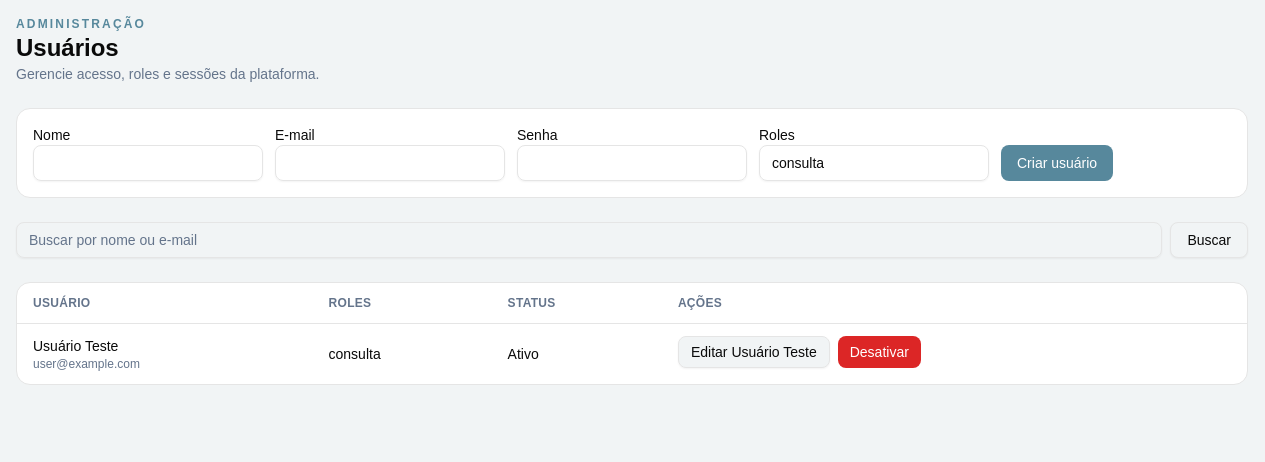
UsersAdmin › creates users with roles and deactivates an existing user
Expected: the text "Usuário Teste" is shown, [33, 338, 118, 354]
Type "Novo Usuário" into the field labelled "Nome" at (148, 163), box [33, 145, 263, 181]
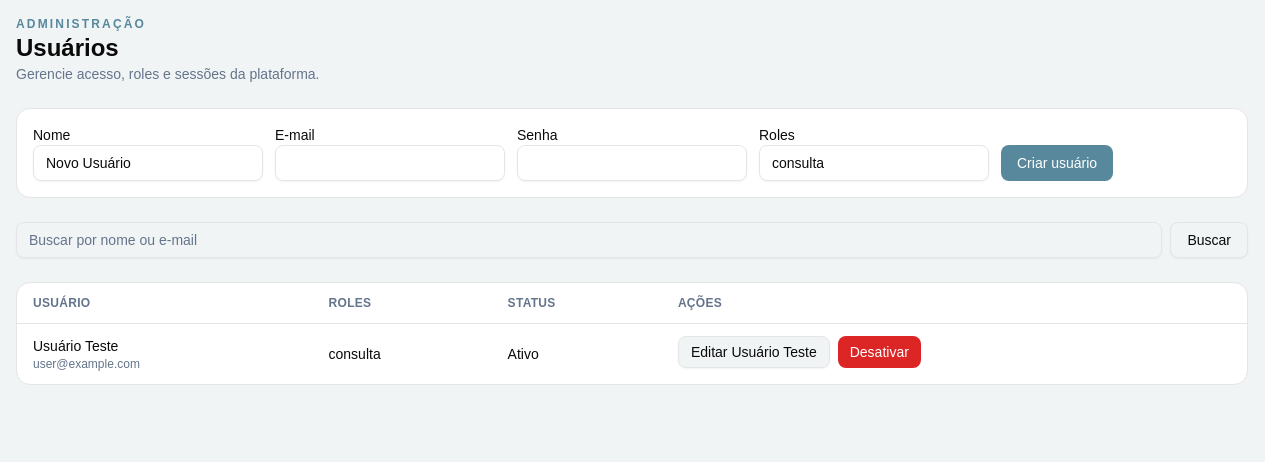
Type "novo@example.com" into the field labelled "E-mail" at (390, 163), box [275, 145, 505, 181]
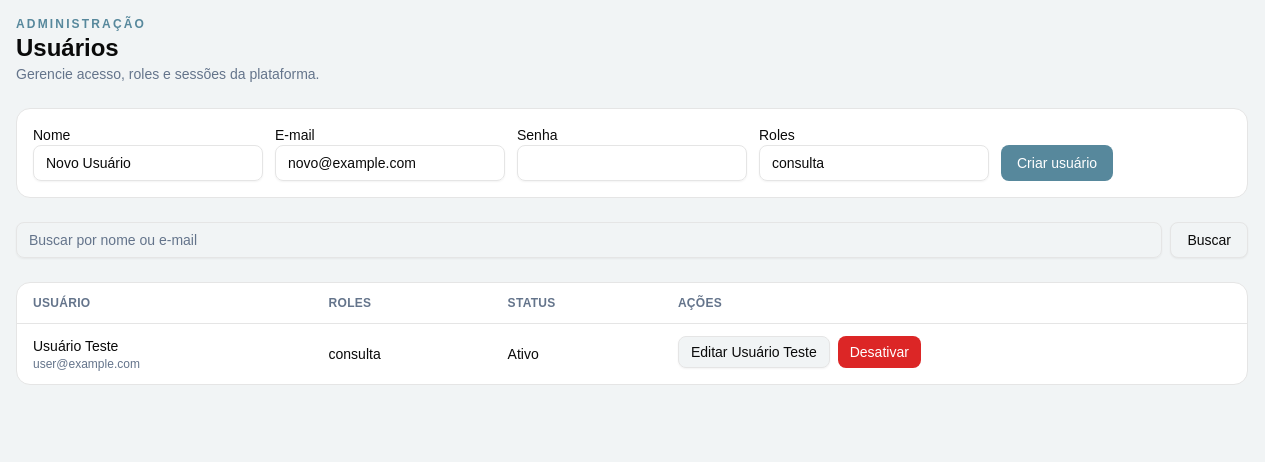
Type "senha-segura-123" into the password field labelled "Senha" at (632, 163), box [517, 145, 747, 181]
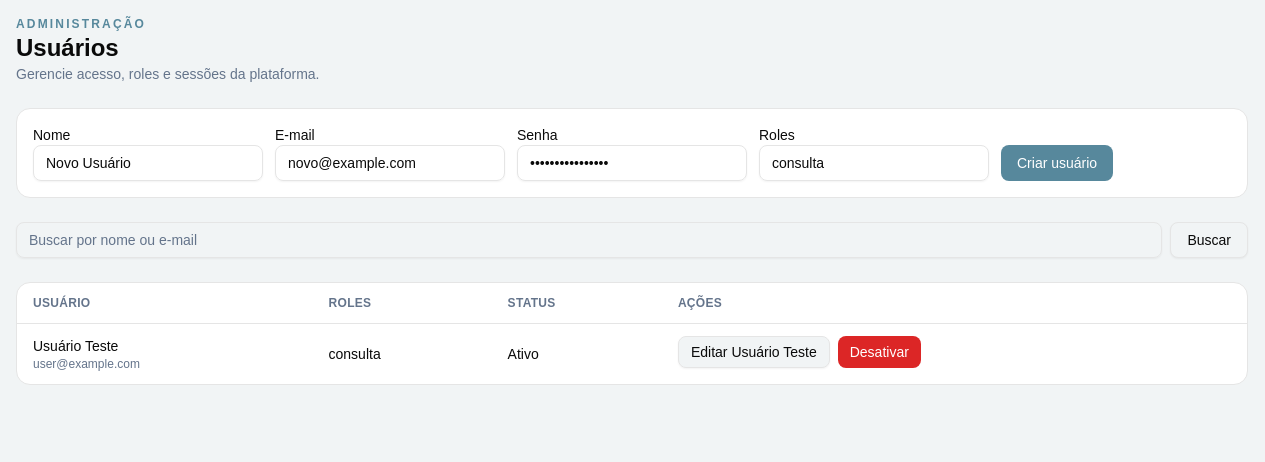
Replace the text in the field labelled "Roles" with "consulta, operador" at (874, 163), box [759, 145, 989, 181]
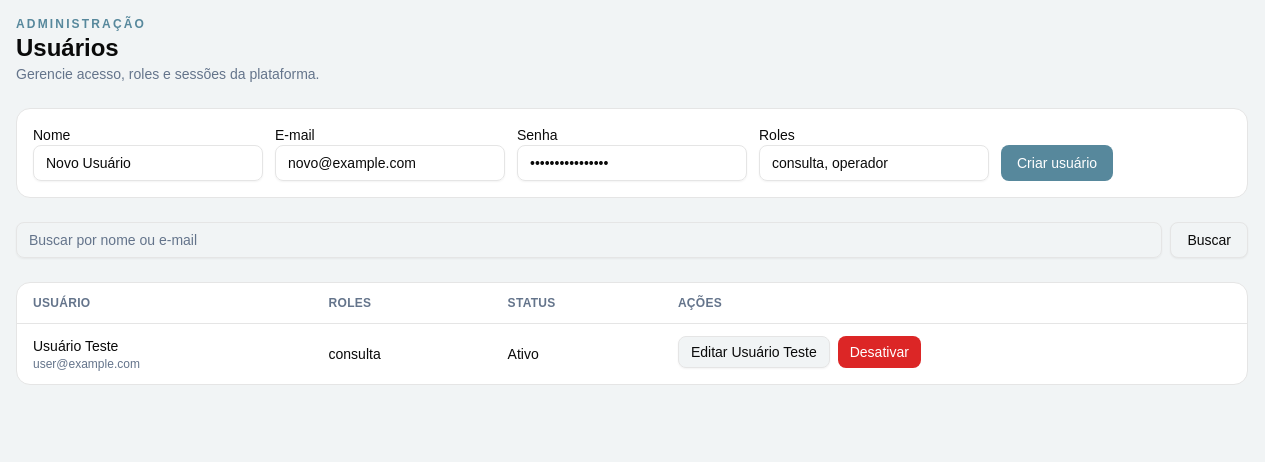
Click the button "Criar usuário" at (1057, 163), box [1001, 145, 1113, 181]
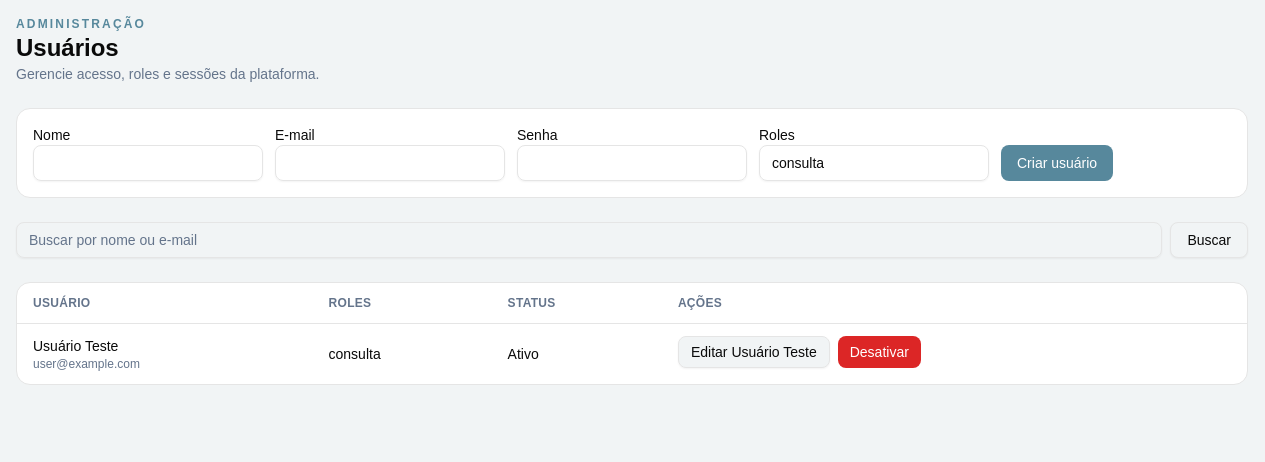
Click the button with aria-label "Desativar Usuário Teste" at (879, 352), box [838, 336, 921, 368]
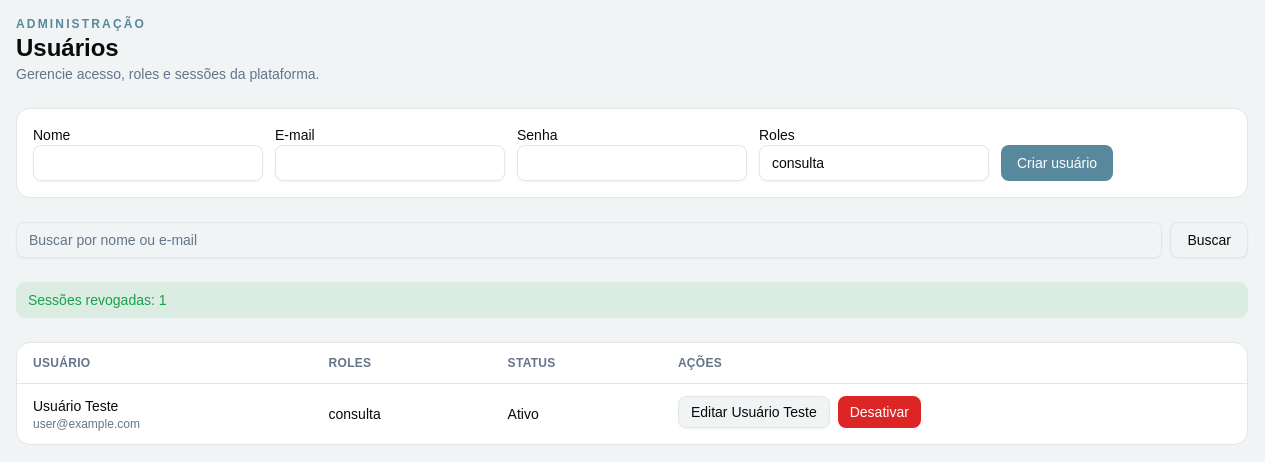
Expected: the text "Sessões revogadas: 1" is shown, [16, 282, 1248, 318]
